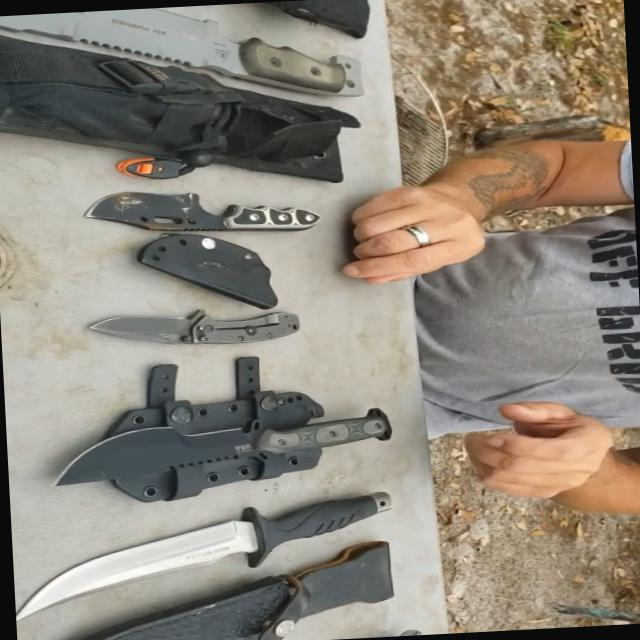knife: (11, 481, 404, 626), (0, 0, 374, 125), (19, 396, 446, 496), (70, 176, 328, 259), (77, 298, 336, 374)
